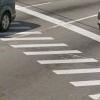Crosswalk: (24, 22, 100, 100)
